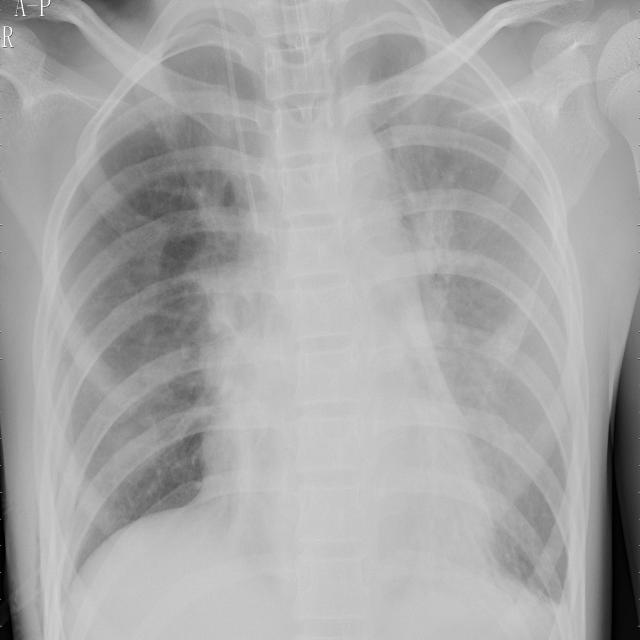low-pneumonia: (401, 171, 524, 482), (156, 69, 260, 233)
